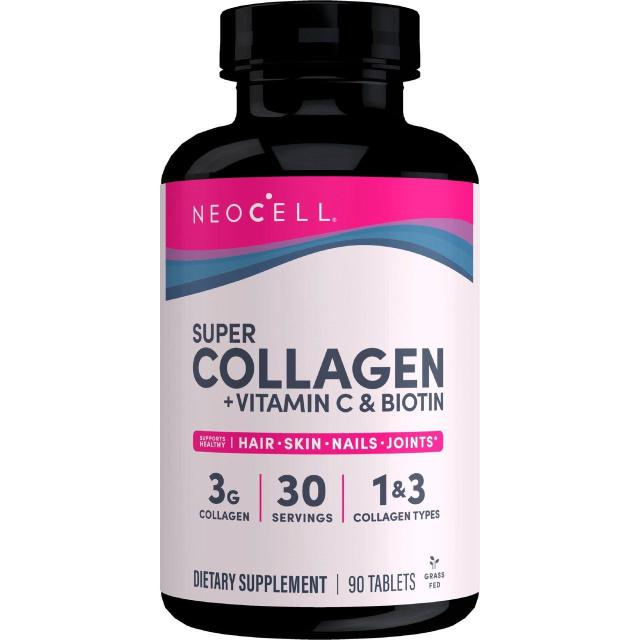food-supliment: (163, 152, 472, 616)
